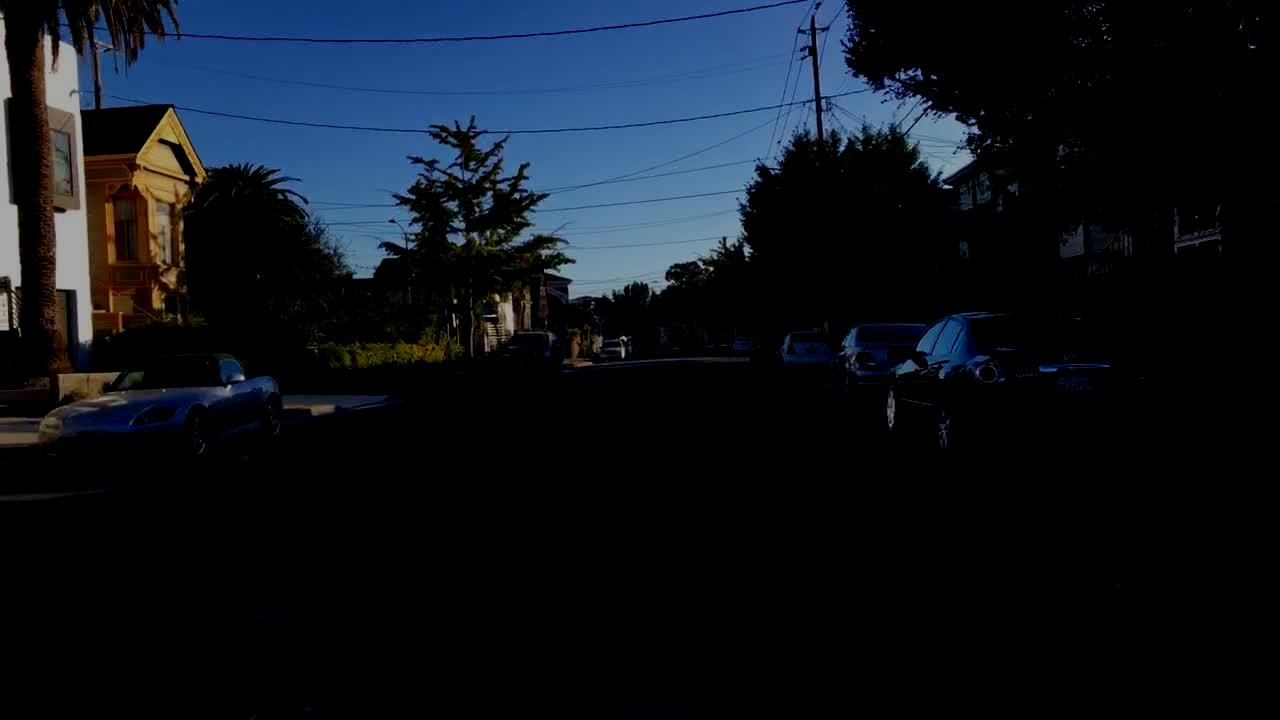Nissan: (1060, 347, 1082, 365)
